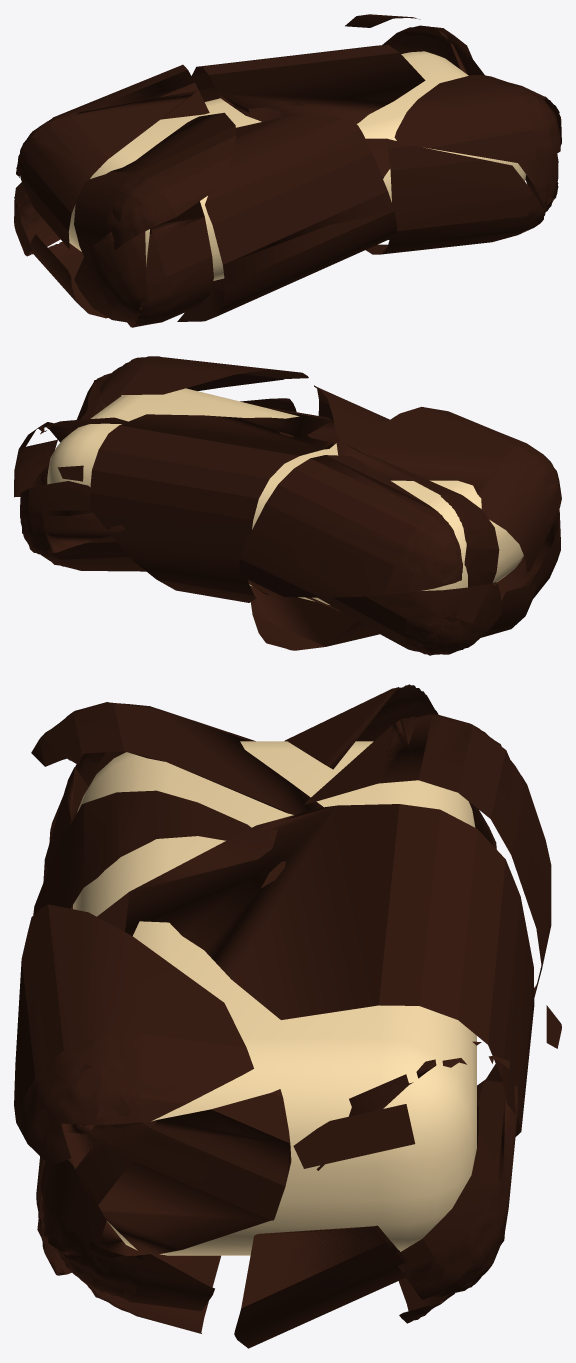
The model's file is Interactive_Chocolate_Capsule_CellFracture.fbx.
The picture shows the model from 3 angles, top to bottom: view 1: azimuth 30°, elevation 25°; view 2: azimuth 150°, elevation 25°; view 3: azimuth 270°, elevation 25°; orthographic projection. The views are drawn at different scales.
Parts seen in each view (by area): view 1: CrackPiece_08, CrackPiece_16, CrackPiece_01, CrackPiece_03, CrackPiece_06, CrackPiece_09, Cream_Inside, CrackPiece_12, CrackPiece_14, CrackPiece_13, CrackPiece_17, CrackPiece_02 (+3 smaller); view 2: CrackPiece_16, CrackPiece_13, CrackPiece_03, Cream_Inside, CrackPiece_04, CrackPiece_08, CrackPiece_06, CrackPiece_19, CrackPiece_09, CrackPiece_10, CrackPiece_17, CrackPiece_02 (+5 smaller); view 3: CrackPiece_16, Cream_Inside, CrackPiece_06, CrackPiece_20, CrackPiece_13, CrackPiece_15, CrackPiece_03, CrackPiece_19, CrackPiece_08, CrackPiece_11, CrackPiece_07, CrackPiece_09 (+6 smaller).
Boxes of the visible parts, <box> form: CrackPiece_08: <box>177,114,397,321</box>; CrackPiece_16: <box>191,45,425,178</box>; CrackPiece_01: <box>366,140,545,254</box>; CrackPiece_03: <box>74,112,236,256</box>; CrackPiece_06: <box>394,75,561,163</box>; CrackPiece_09: <box>18,90,197,249</box>; Cream_Inside: <box>68,51,526,280</box>; CrackPiece_12: <box>127,201,213,327</box>; CrackPiece_14: <box>74,231,146,322</box>; CrackPiece_13: <box>16,64,209,177</box>; CrackPiece_17: <box>382,25,484,75</box>; CrackPiece_02: <box>30,234,107,318</box>; CrackPiece_16: <box>90,407,339,602</box>; CrackPiece_13: <box>239,455,462,597</box>; CrackPiece_03: <box>344,406,561,572</box>; Cream_Inside: <box>47,388,523,604</box>; CrackPiece_04: <box>319,582,501,655</box>; CrackPiece_08: <box>250,385,389,650</box>; CrackPiece_06: <box>99,356,308,398</box>; CrackPiece_19: <box>20,481,125,554</box>; CrackPiece_09: <box>347,445,499,587</box>; CrackPiece_10: <box>40,535,145,571</box>; CrackPiece_17: <box>14,422,57,497</box>; CrackPiece_02: <box>305,584,536,637</box>; CrackPiece_16: <box>97,804,534,1136</box>; Cream_Inside: <box>73,741,476,1255</box>; CrackPiece_06: <box>14,904,253,1165</box>; CrackPiece_20: <box>61,1089,291,1255</box>; CrackPiece_13: <box>304,714,551,998</box>; CrackPiece_15: <box>234,1225,408,1348</box>; CrackPiece_03: <box>31,702,323,814</box>; CrackPiece_19: <box>398,1080,518,1299</box>; CrackPiece_08: <box>33,790,251,915</box>; CrackPiece_11: <box>55,1248,214,1311</box>; CrackPiece_07: <box>41,1159,134,1257</box>; CrackPiece_09: <box>284,684,438,769</box>.
Bounding box in the file's own units: 2.12 × 0.8565 × 1.14.
